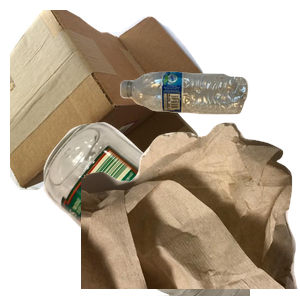cardboard: (10, 10, 206, 190)
glass: (41, 120, 281, 300)
plastic: (118, 69, 300, 176)
trash: (81, 120, 300, 300)
